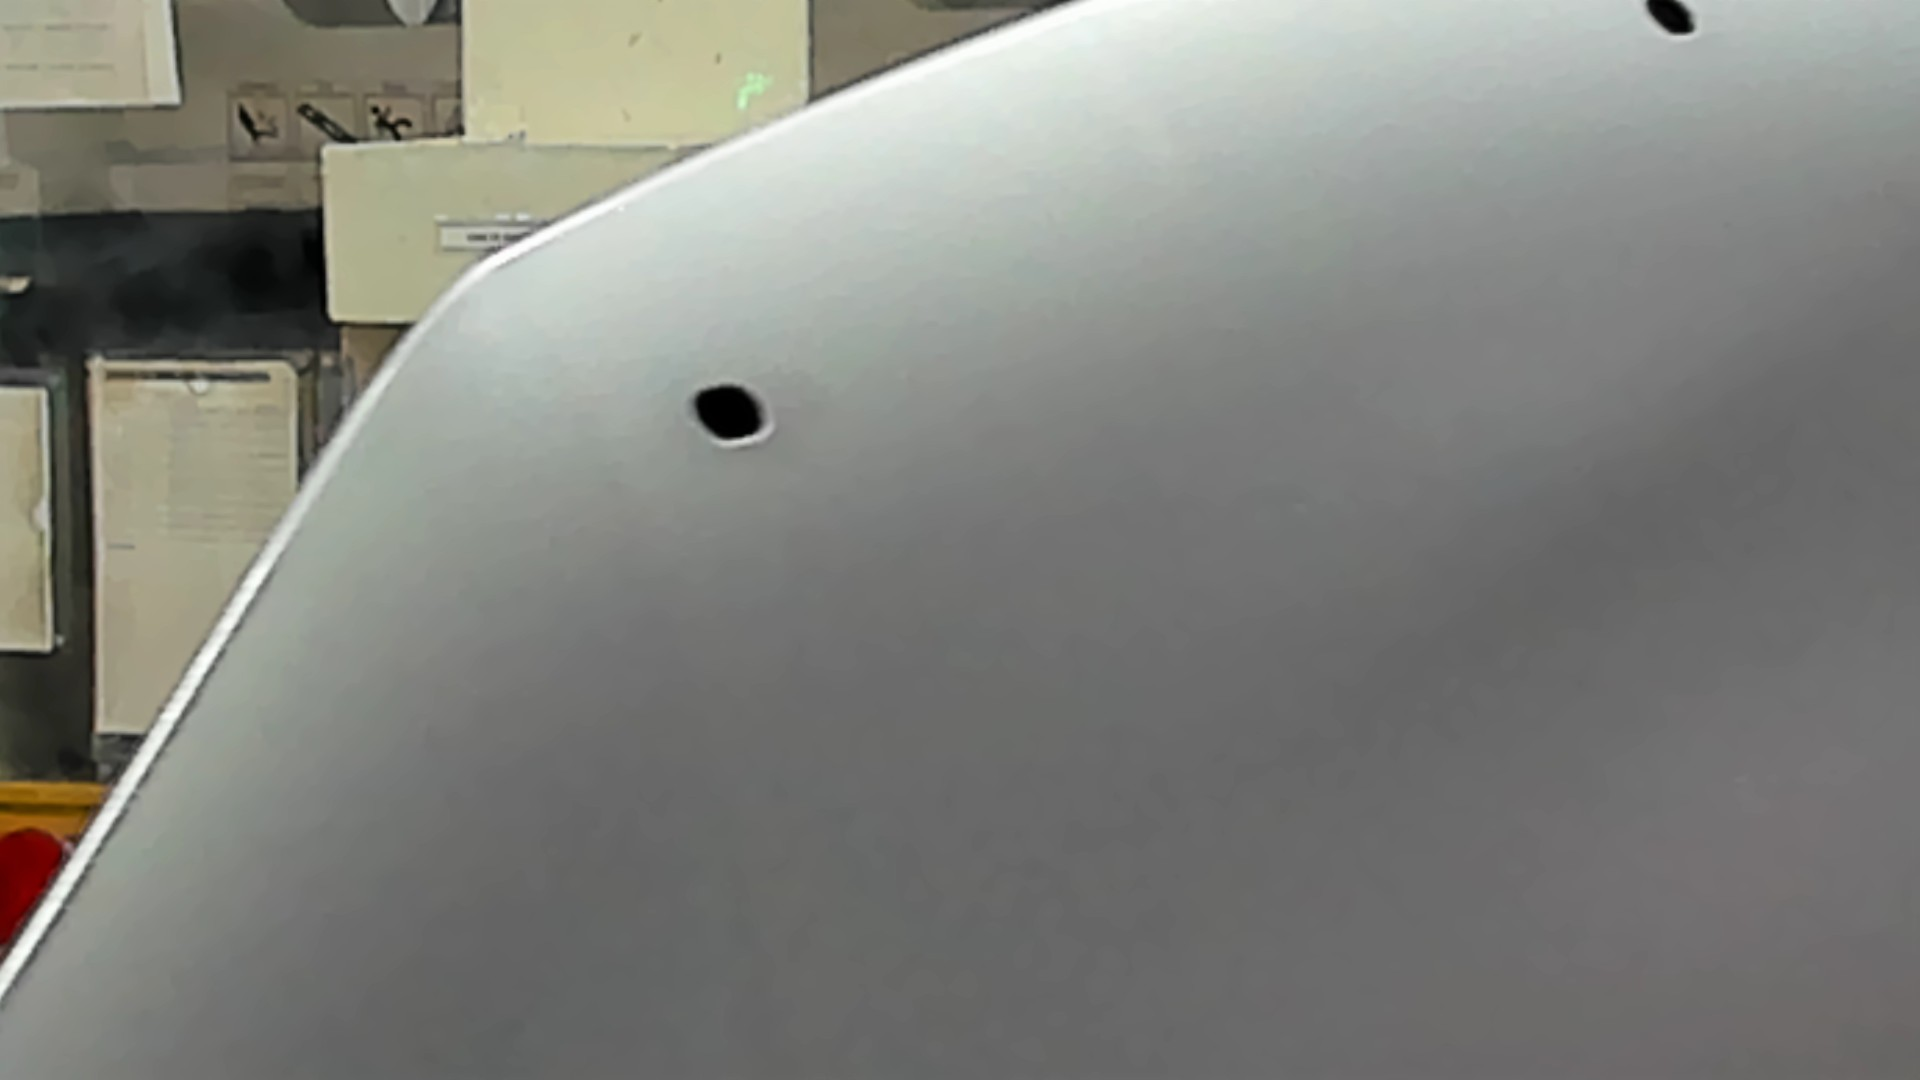chico: (674, 378, 791, 460), (1636, 1, 1710, 47)
